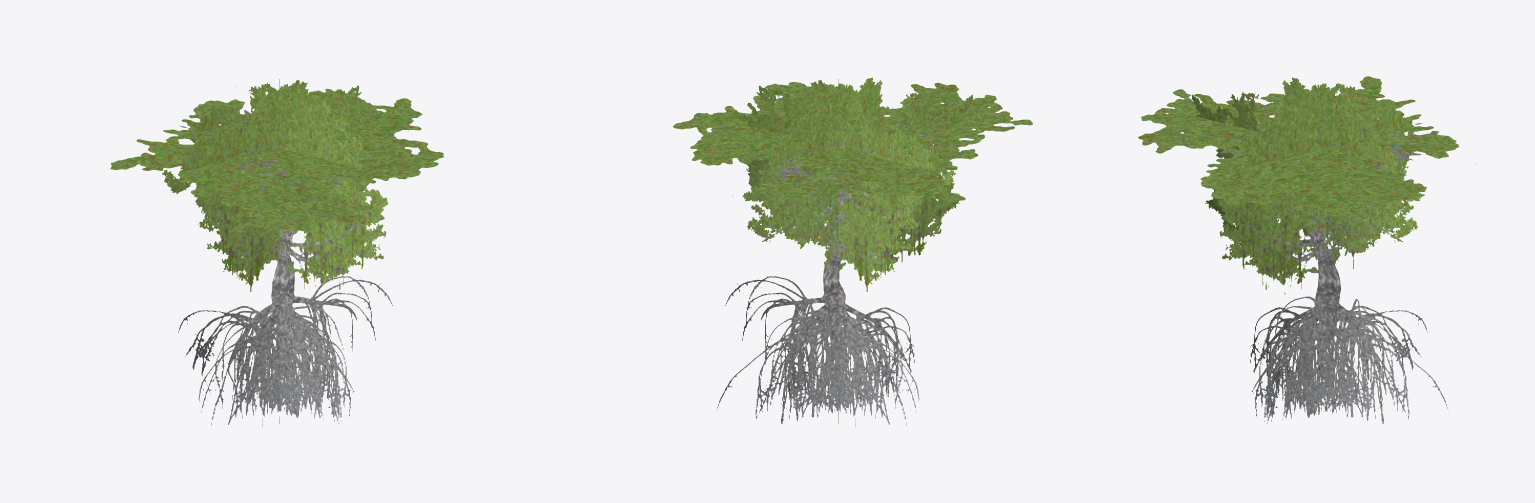
The model's file is red_lod2.glb.
3 renders of one model, left to right at view 1: azimuth 30°, elevation 25°; view 2: azimuth 150°, elevation 25°; view 3: azimuth 270°, elevation 25°, orthographic.
Parts seen in each view (by area): view 1: lod2; view 2: lod2; view 3: lod2.
Part boxes in pixels (bbox=[...]): lod2: bbox=[110, 79, 443, 426]; lod2: bbox=[673, 77, 1032, 426]; lod2: bbox=[1138, 76, 1476, 423].
Bounding box in the file's own units: 8.88 × 8.67 × 8.88.
1 material, 1 textured.
